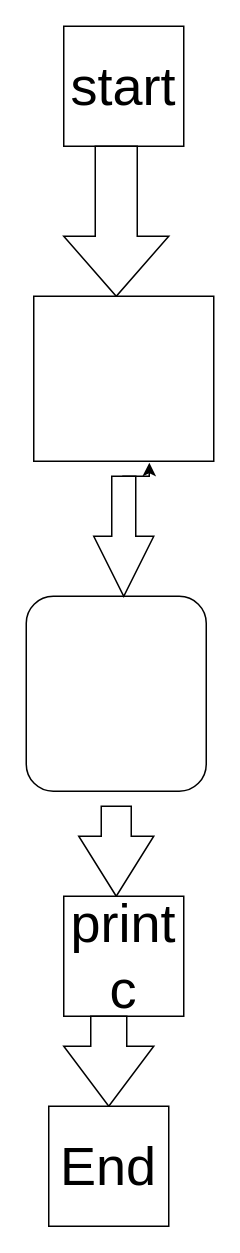
Image size: 240x1253. Some labels were removed from this diagram. The shapes that lost their labels are listed below. From the top down, each one's centre as x and y in pixels, then its label:
the point at 123,378: input integer a,b
the point at 115,693: int c = a+b
